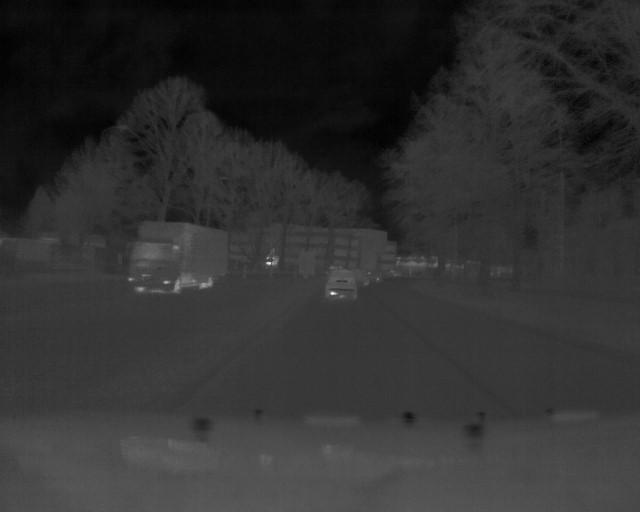car: (325, 267, 358, 299)
